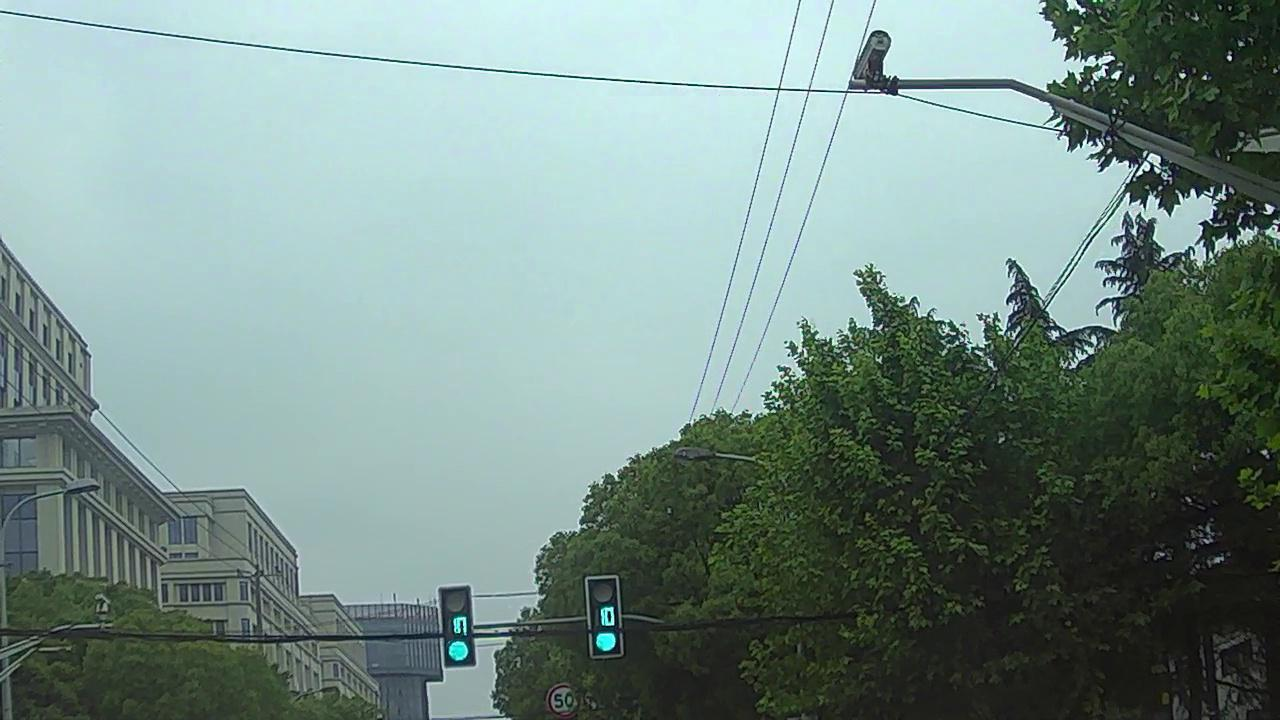traffic_light: (588, 576, 620, 657), (440, 592, 473, 663)
